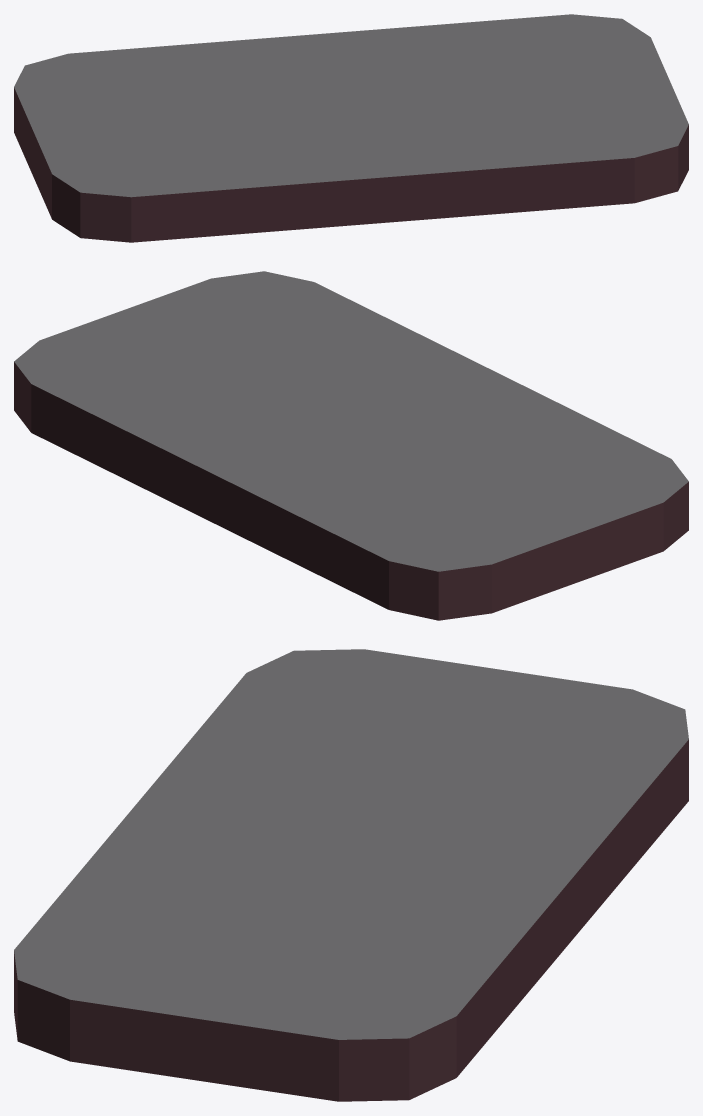
3 views of the same model, one above another, from view 1: azimuth 30°, elevation 25°; view 2: azimuth 150°, elevation 25°; view 3: azimuth 270°, elevation 25° (orthographic). The views are drawn at different scales.
Visible parts, largest first — view 1: Box010.009; view 2: Box010.009; view 3: Box010.009.
Boxes of the visible parts, x1,y1,x2,y2 form: Box010.009: (14, 14, 688, 242); Box010.009: (14, 271, 688, 620); Box010.009: (14, 649, 688, 1101).
Bounding box in the file's own units: 37.31 × 2.75 × 27.24.
